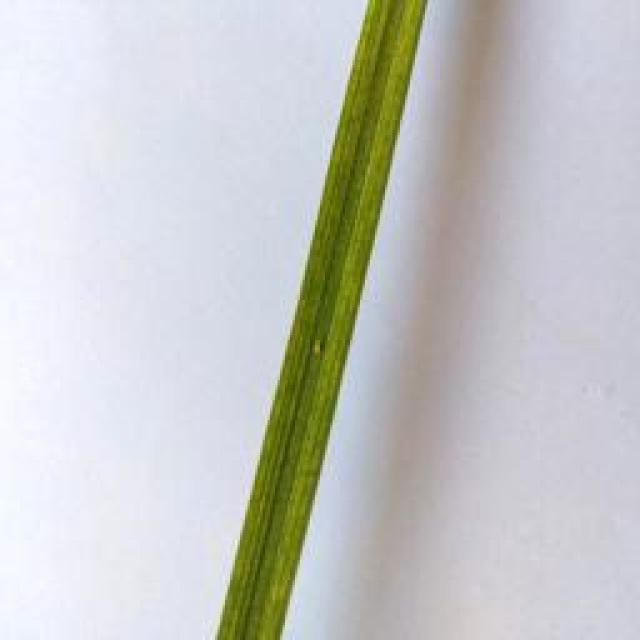Healthy-Plant: (218, 0, 432, 640)
